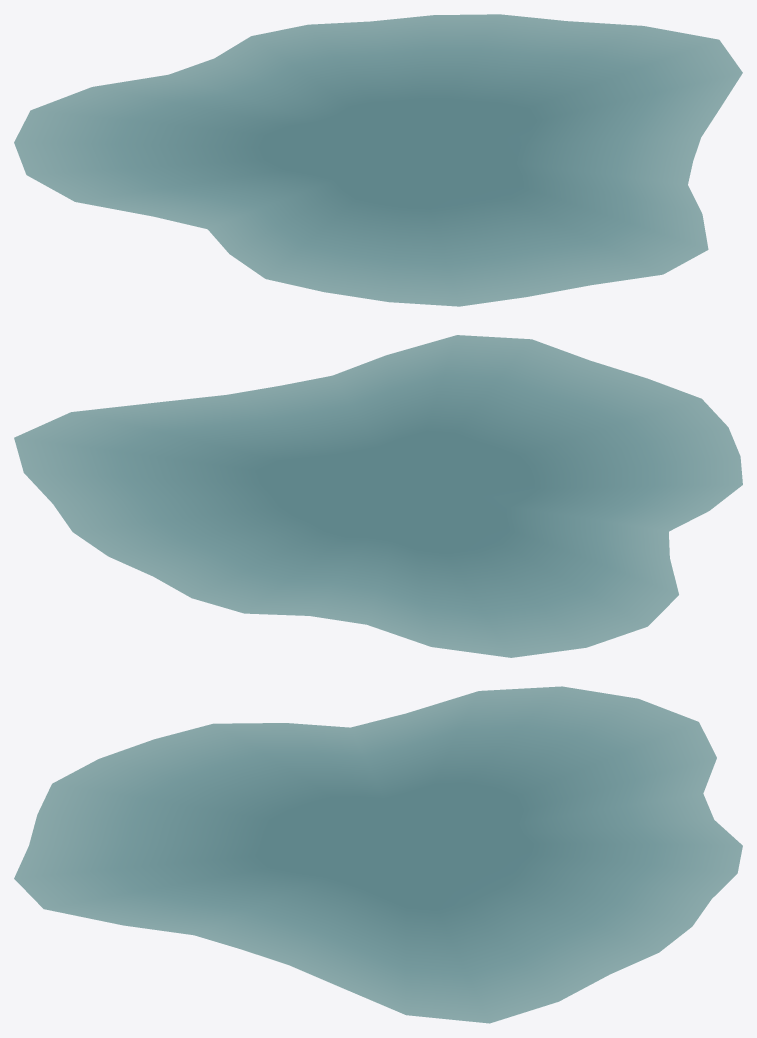
File: custom_pond.glb
3 renders of one model, top to bottom at view 1: azimuth 30°, elevation 25°; view 2: azimuth 150°, elevation 25°; view 3: azimuth 270°, elevation 25°, orthographic. The views are drawn at different scales.
Parts seen in each view (by area): view 1: custom_pond; view 2: custom_pond; view 3: custom_pond.
Boxes of the visible parts, box(x1,y1,x2,y2) form: custom_pond: box(14, 14, 742, 306); custom_pond: box(14, 335, 742, 657); custom_pond: box(14, 686, 742, 1023).
Size of the model in its own units: 7.93 by 0.026 by 7.25.
